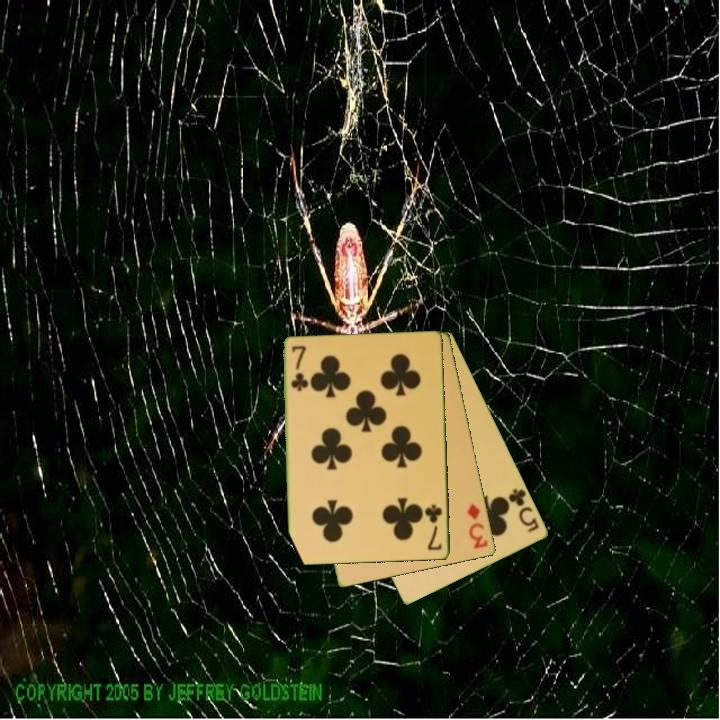3d: (464, 500, 491, 552)
5c: (505, 485, 542, 535)
7c: (423, 501, 445, 553), (288, 343, 309, 394)
